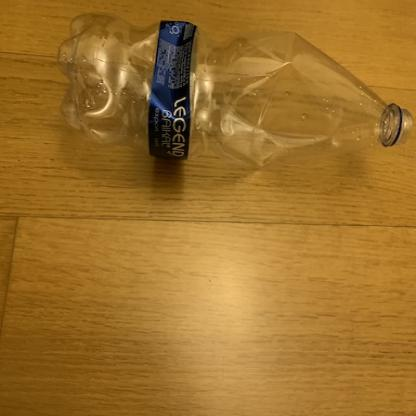trash: (53, 11, 412, 176)
